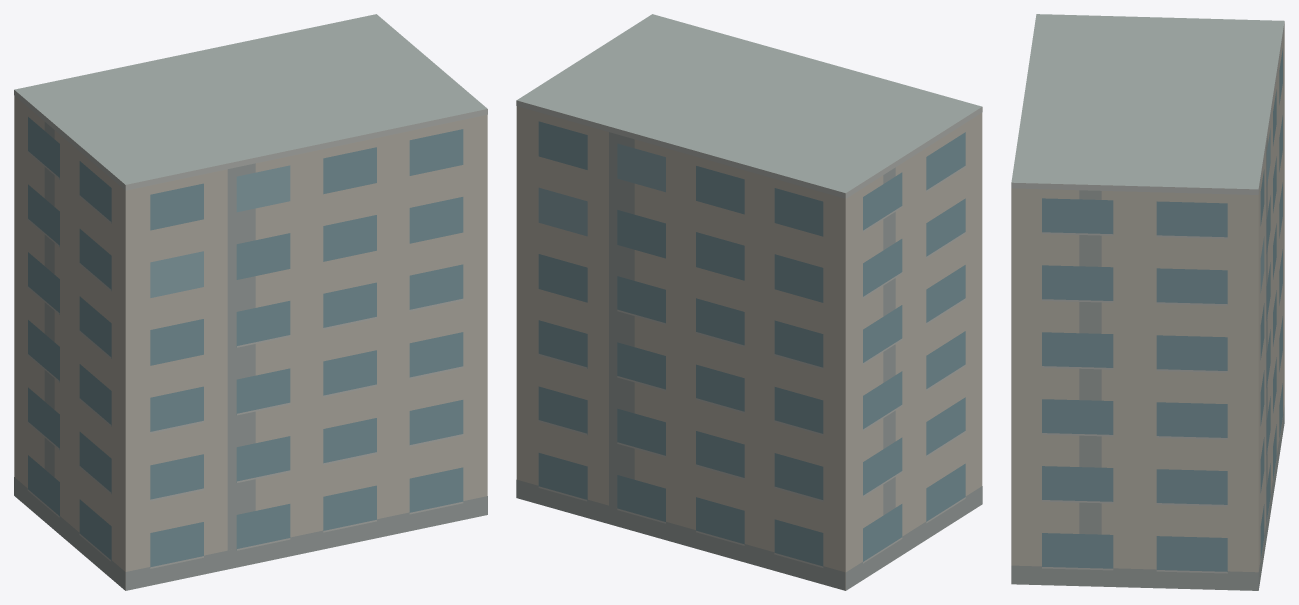
File: survey-upis-32835170.glb
The picture shows the model from 3 angles, left to right: view 1: azimuth 30°, elevation 25°; view 2: azimuth 150°, elevation 25°; view 3: azimuth 270°, elevation 25°; orthographic projection. The views are drawn at different scales.
Parts seen in each view (by area): view 1: survey-upis-32835170.tmp; view 2: survey-upis-32835170.tmp; view 3: survey-upis-32835170.tmp.
Part boxes in pixels (<box>): survey-upis-32835170.tmp: <box>14,14,487,590</box>; survey-upis-32835170.tmp: <box>516,14,982,590</box>; survey-upis-32835170.tmp: <box>1011,14,1284,590</box>.
Bounding box in the file's own units: 16.12 × 17.2 × 10.62.
